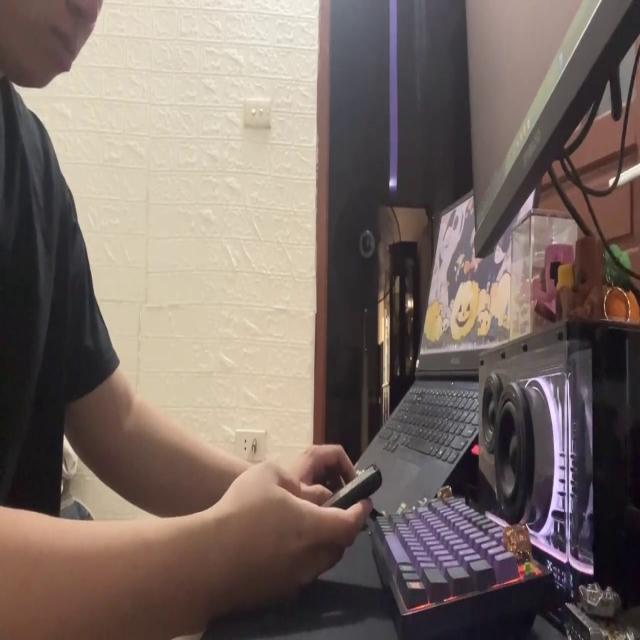laptop: (323, 177, 541, 530), (466, 1, 640, 264)
phone: (313, 451, 382, 528)
student: (0, 0, 373, 630)
